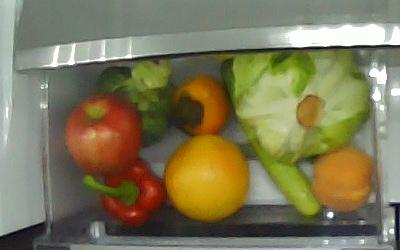apple: (67, 95, 140, 175)
broccoli: (97, 58, 170, 147)
cucumber: (222, 57, 322, 215)
grapefruit: (165, 133, 249, 220)
lettuce: (227, 49, 369, 160)
paprika: (81, 158, 164, 227)
peach: (313, 143, 374, 213)
persimmon: (174, 77, 230, 132)
